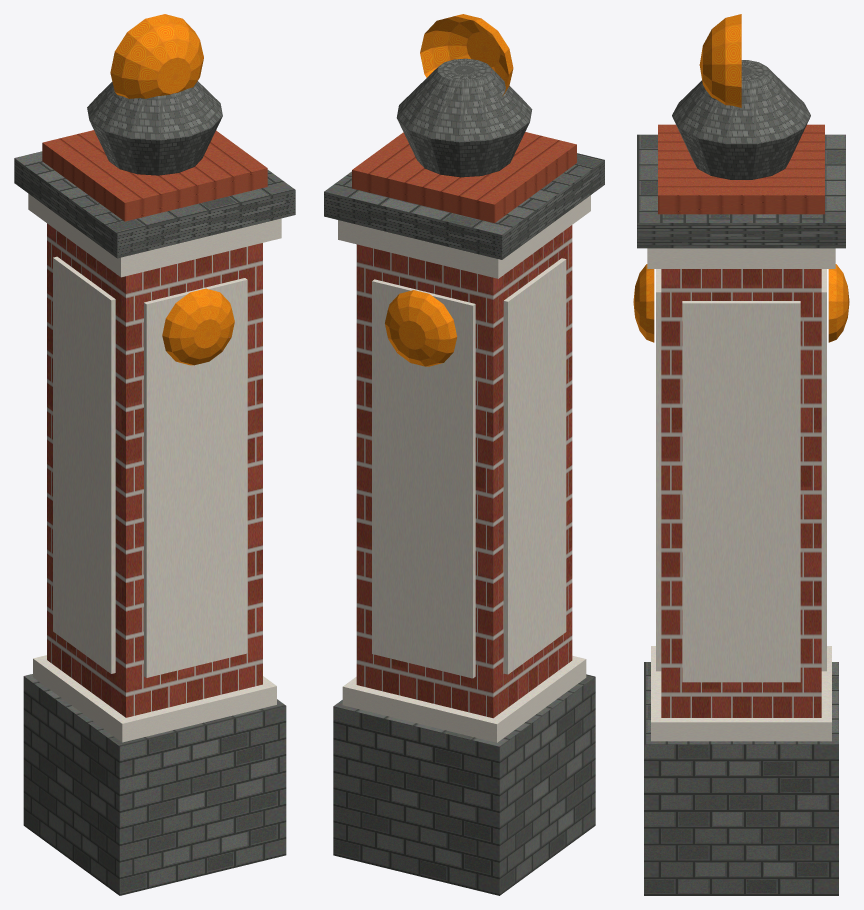
Rendered from muro_panteon_pilar.obj.
The picture shows the model from 3 angles, left to right: view 1: azimuth 30°, elevation 25°; view 2: azimuth 150°, elevation 25°; view 3: azimuth 270°, elevation 25°; orthographic projection.
Parts seen in each view (by area): view 1: muro_panteon_pilar; view 2: muro_panteon_pilar; view 3: muro_panteon_pilar.
Part boxes in pixels (x1,y1,x2,y2): muro_panteon_pilar: (14, 14, 295, 895); muro_panteon_pilar: (324, 14, 604, 895); muro_panteon_pilar: (633, 14, 849, 895).
Size of the model in its own units: 0.6 by 2.65 by 0.62.
1 material, 1 textured.
